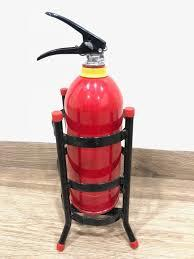floor-kept: (32, 7, 166, 253)
